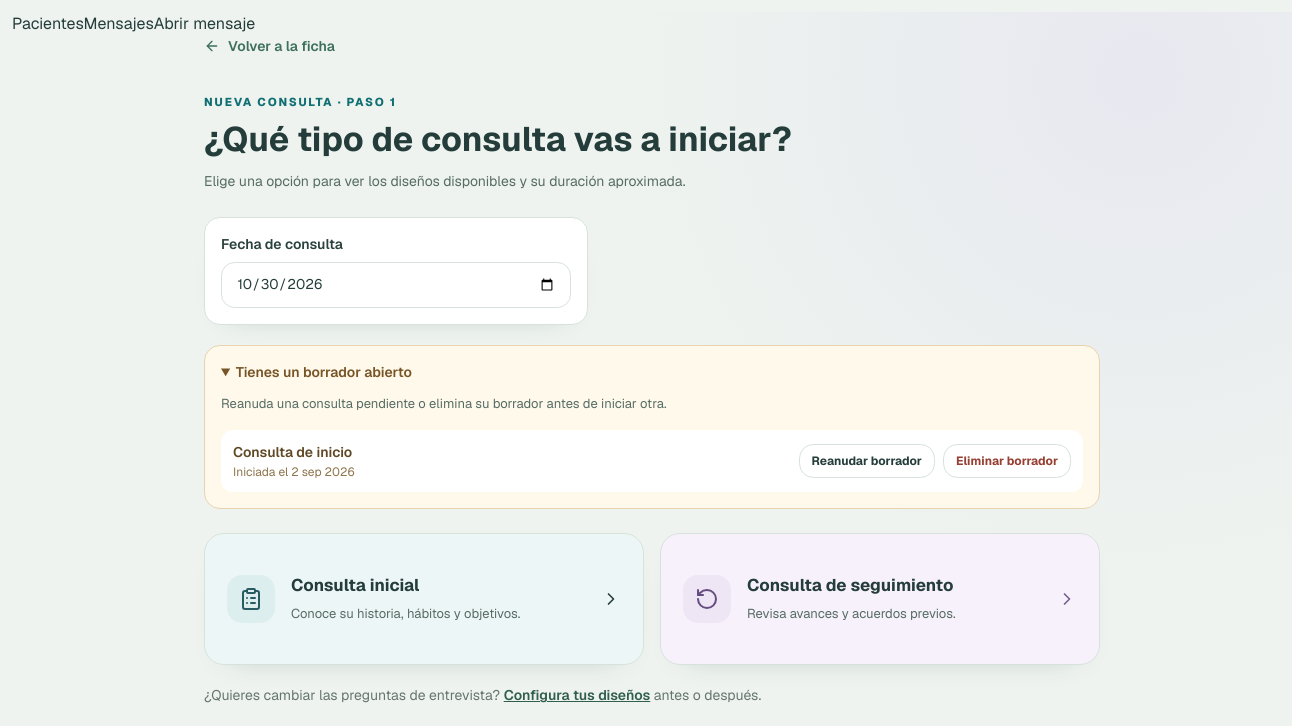
Scenario: consultation save and review workflow › resumes an existing draft without changing its consultation date
Expected: the heading "¿Qué tipo de consulta vas a iniciar?" is shown, [204, 117, 792, 161]
Click the button "Reanudar borrador" at (867, 461), box [799, 444, 935, 478]
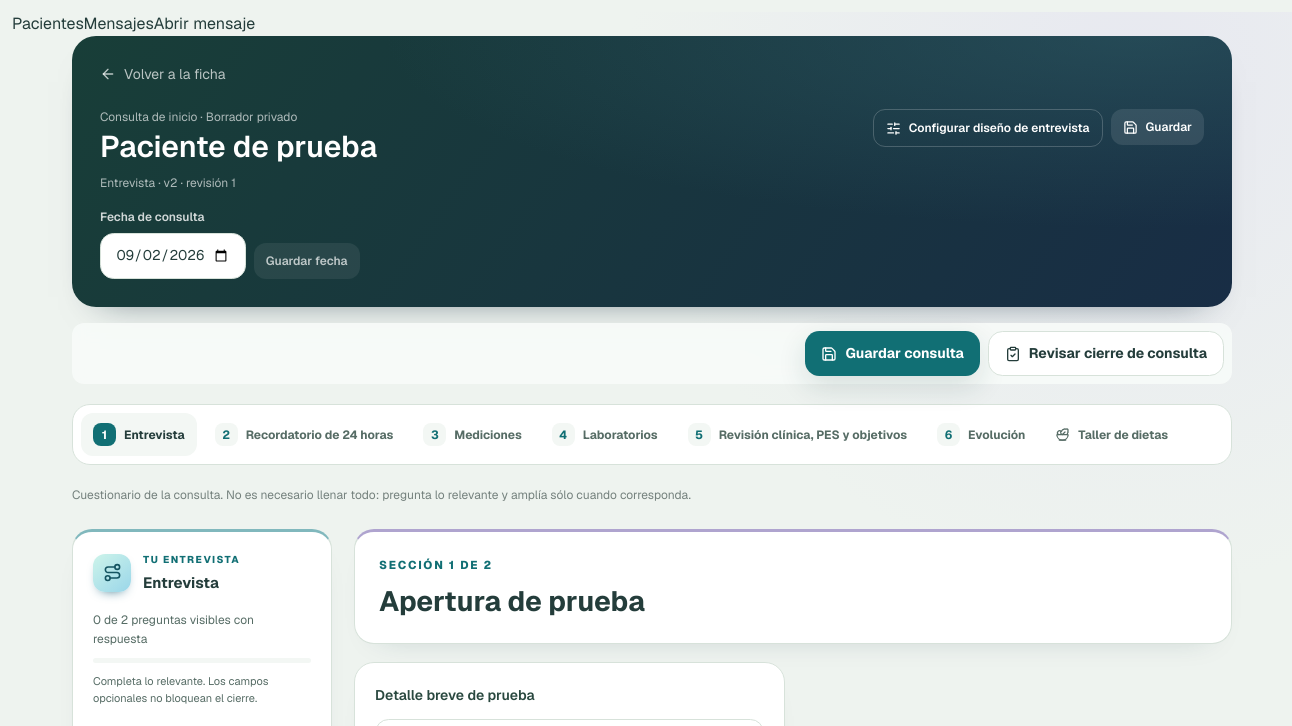
Now the heading "Apertura de prueba" is shown, box [379, 582, 645, 618]
